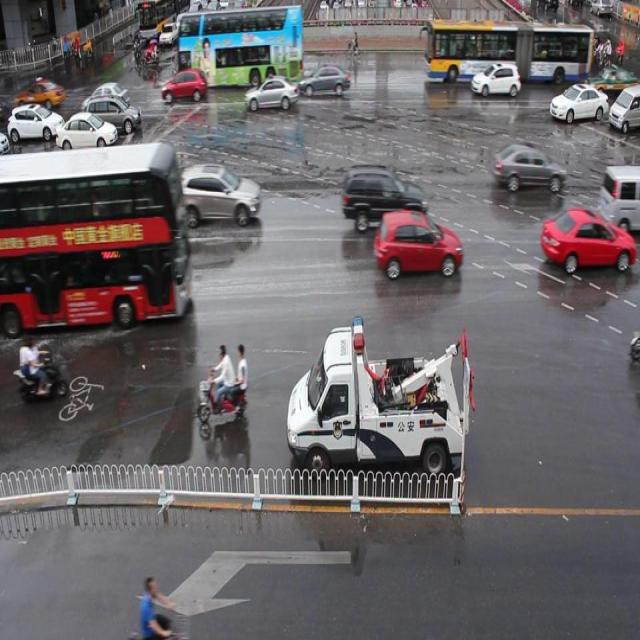car: (539, 206, 632, 275), (372, 208, 461, 278), (342, 164, 428, 226), (175, 163, 260, 223), (493, 142, 565, 192), (548, 82, 606, 123), (246, 74, 298, 112), (470, 62, 521, 100), (299, 63, 350, 99)
truck: (600, 162, 640, 233)
van: (1, 144, 190, 325), (422, 20, 589, 84), (173, 10, 305, 90)
